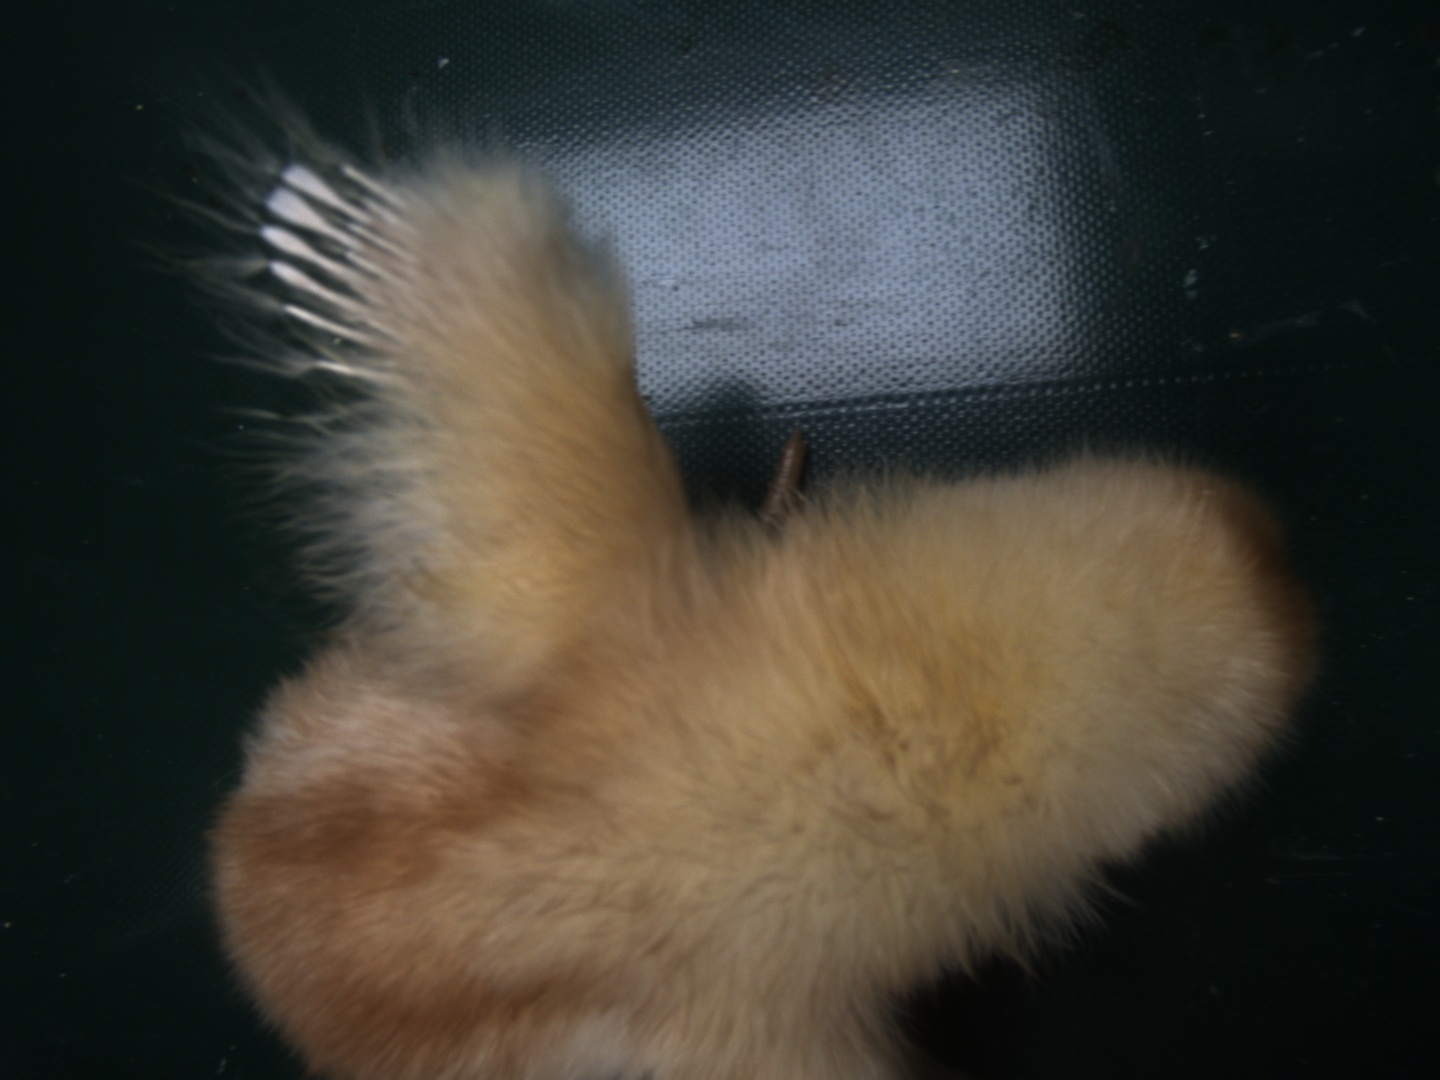female: (259, 154, 432, 404)
